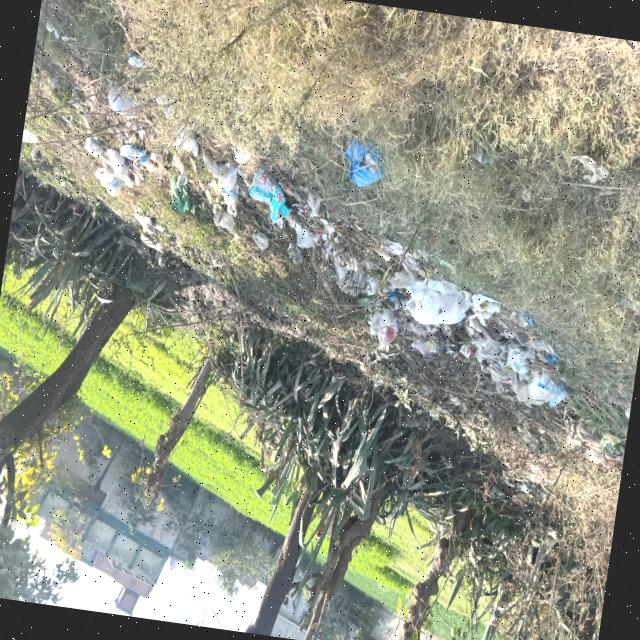garbage: (94, 143, 576, 410)
